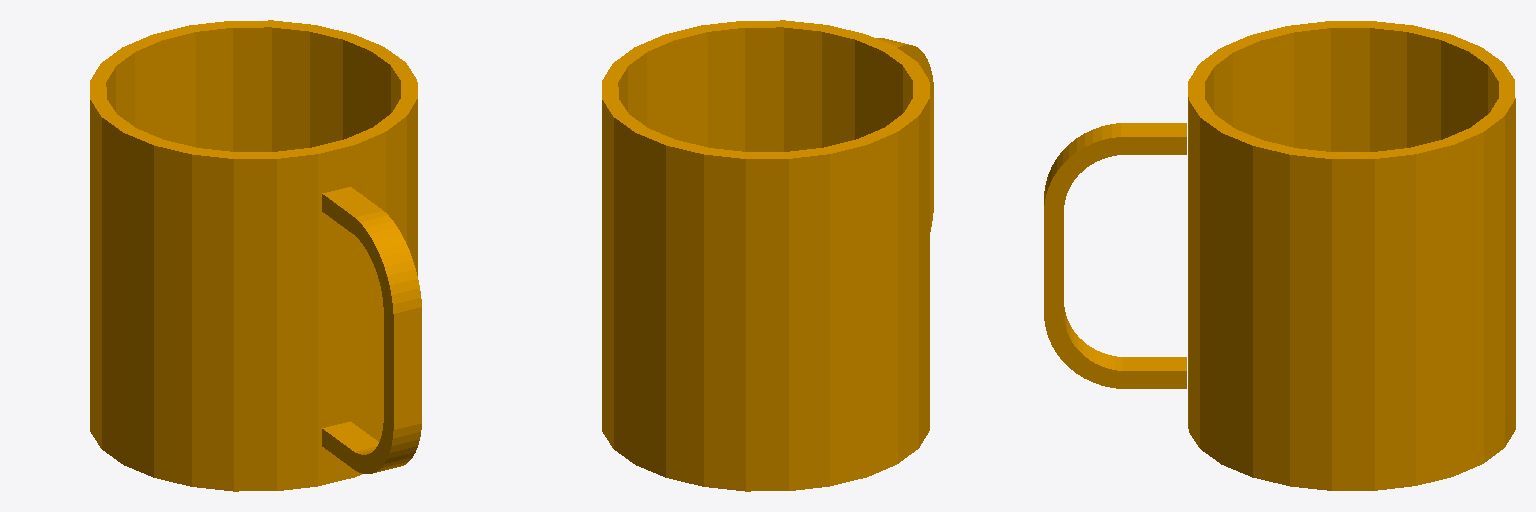
URDF robot description (obj_5):
<?xml version="1.0"?>
<robot name="obj_5">
  <link name="obj_5">
    <visual>
      <origin xyz="0.0 0.0 0.0" rpy="0 0 0"/>
      <geometry>
        <mesh filename="../mesh/ncf_mug_cupholder/obj_assets/5/obj_collision.obj" scale="1 1 1"/>
      </geometry>
    </visual>
    <collision>
      <origin xyz="0.0 0.0 0.0" rpy="0 0 0"/>
      <geometry>
        <mesh filename="../mesh/ncf_mug_cupholder/obj_assets/5/obj_collision.obj" scale="1 1 1"/>
      </geometry>
      <sdf resolution="512"/>
    </collision >    
    <inertial>
      <mass value="0.102"/>
      <inertia ixx="0.0001" ixy="0.0" ixz="0.0" iyy="0.0001" iyz="0.0" izz="0.0001"/>
    </inertial>
  </link>
</robot>

--- Render facts (derived) ---
The picture shows the robot from 3 angles, left to right: view 1: azimuth 30°, elevation 25°; view 2: azimuth 150°, elevation 25°; view 3: azimuth 270°, elevation 25°; orthographic projection.
Model obj_5 with 1 links and 0 joints (none), rooted at obj_5, posed every joint at zero.
Links seen in each view (by area): view 1: obj_5; view 2: obj_5; view 3: obj_5.
Boxes of the visible links, left/top/right/bottom form: obj_5: left=90, top=20, right=421, bottom=491; obj_5: left=602, top=20, right=933, bottom=491; obj_5: left=1044, top=21, right=1515, bottom=490.
Size in the robot's own frame: 0.0805 by 0.1159 by 0.0901 metres.
Meshes: 1 distinct files referenced, 1 mesh visuals loaded (1 OBJ).